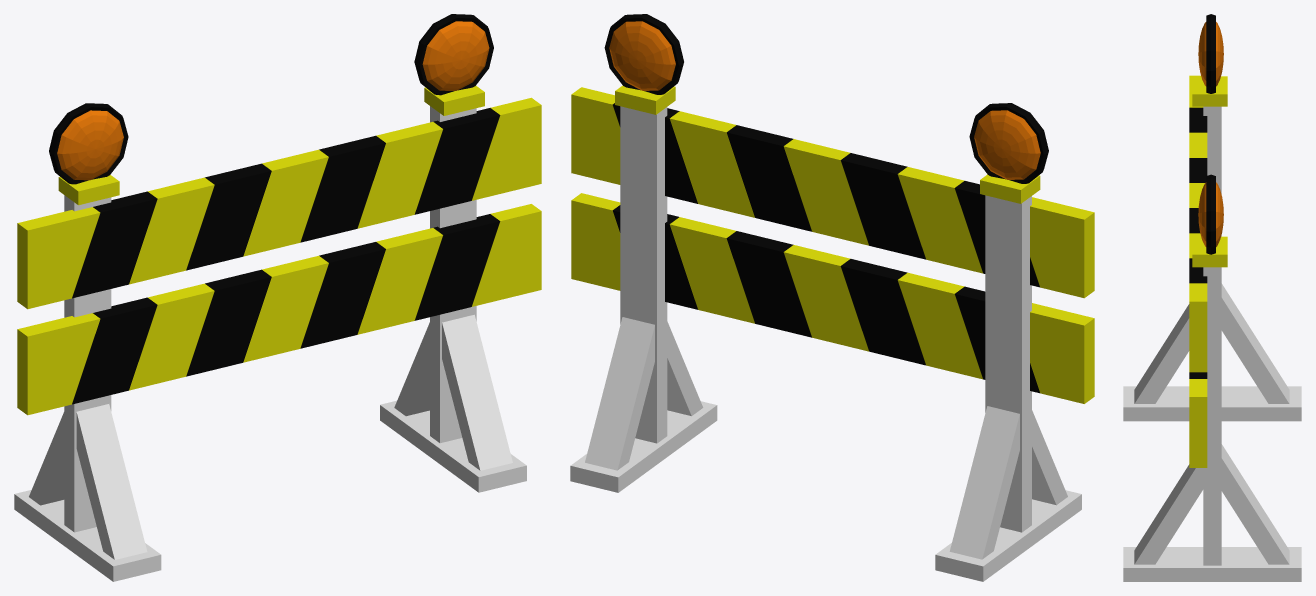
The model's file is TrafficBarrier.fbx.
The picture shows the model from 3 angles, left to right: view 1: azimuth 30°, elevation 25°; view 2: azimuth 150°, elevation 25°; view 3: azimuth 270°, elevation 25°; orthographic projection. The views are drawn at different scales.
Parts seen in each view (by area): view 1: TrafficBarrier; view 2: TrafficBarrier; view 3: TrafficBarrier.
Boxes of the visible parts, x1,y1,x2,y2 form: TrafficBarrier: (14,14,541,581); TrafficBarrier: (570,14,1094,581); TrafficBarrier: (1123,14,1301,581).
Size of the model in its own units: 8.12 by 6.59 by 2.71.
